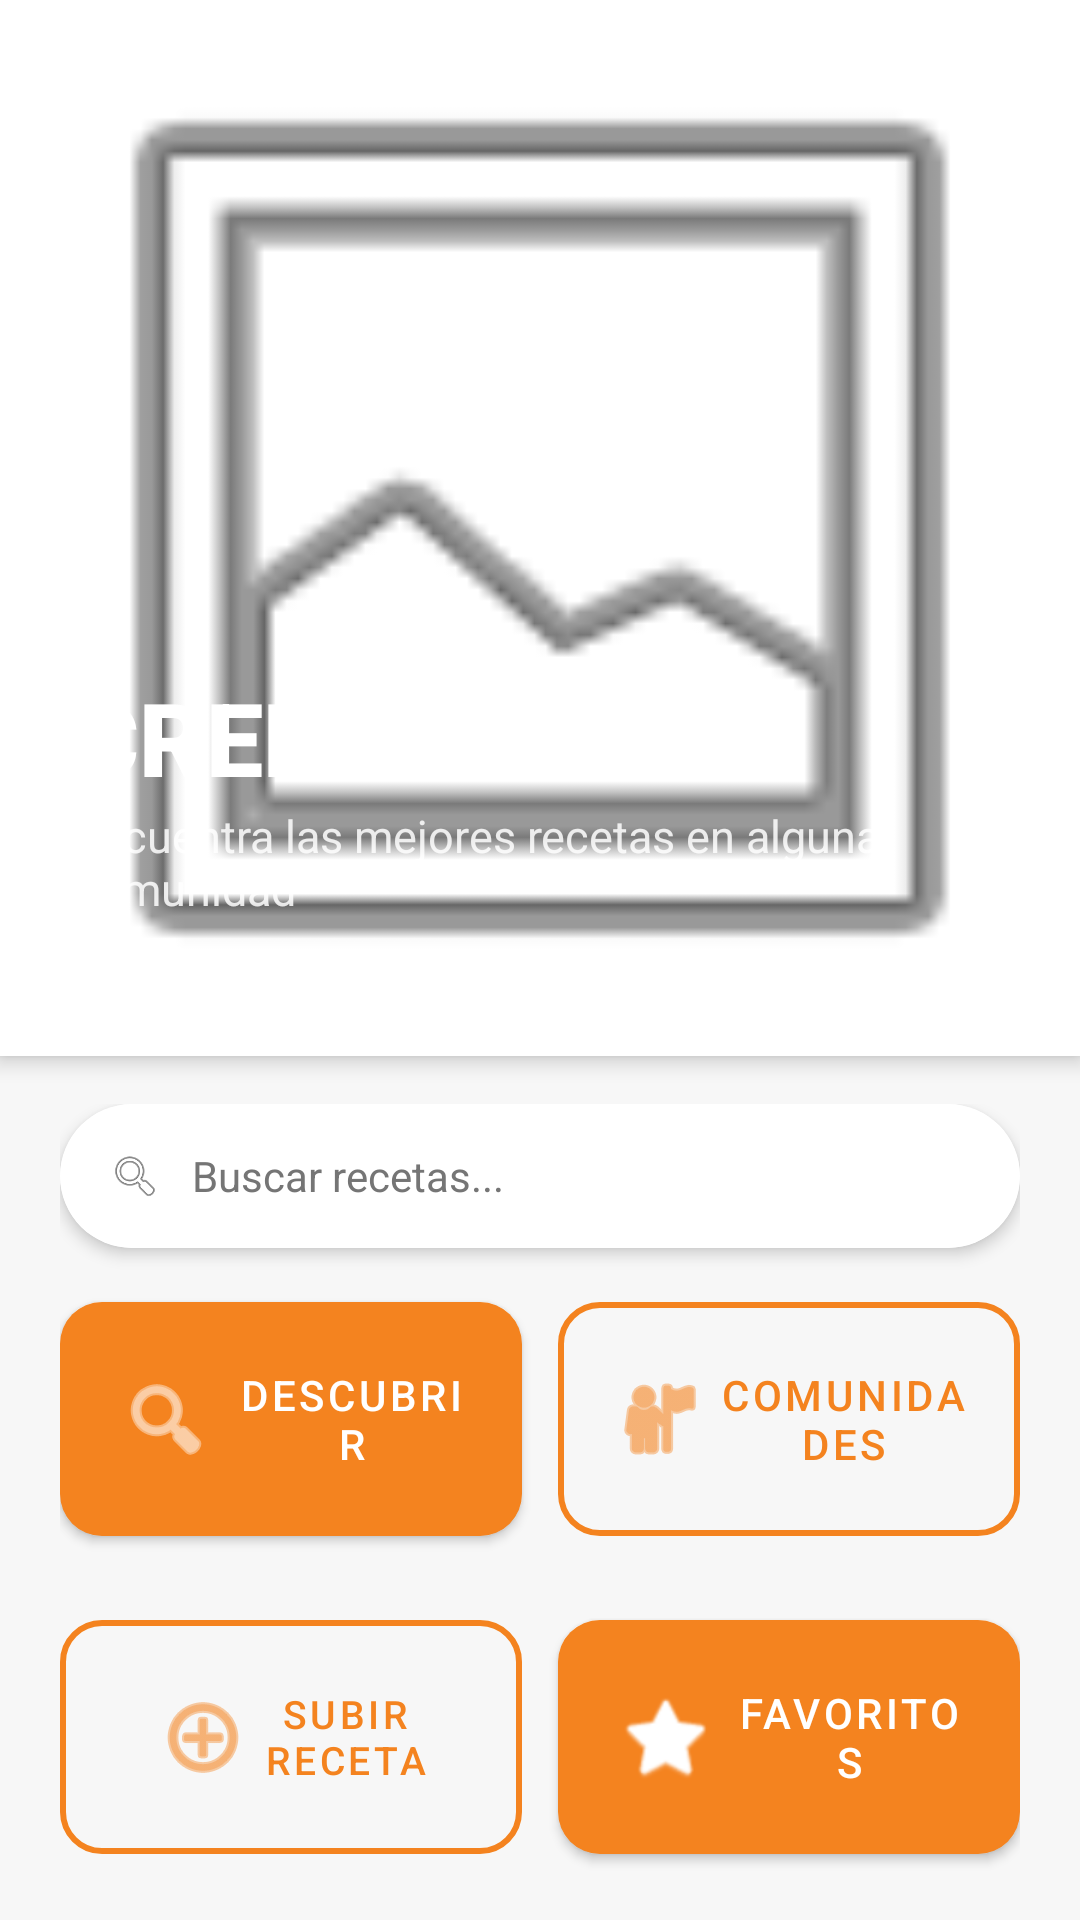

Icon click points for this 1080x1920 phone screenshot, format (x=x, y=y):
search: (x=135, y=1176)
